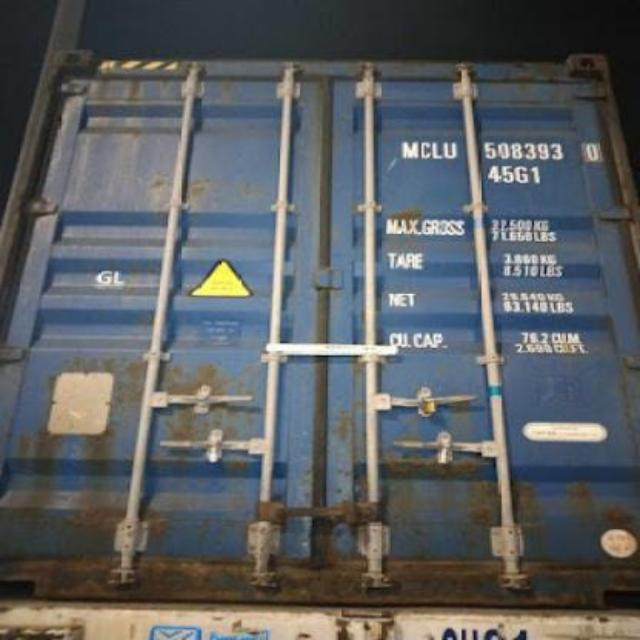0: (582, 140, 608, 167), (496, 138, 509, 160)
3: (550, 134, 564, 162), (526, 140, 538, 164)
5: (484, 140, 498, 160)
8: (510, 142, 526, 162)
9: (538, 138, 550, 164)
C: (420, 136, 430, 164)
L: (432, 138, 444, 162)
M: (398, 132, 419, 162)
U: (444, 138, 458, 158)
